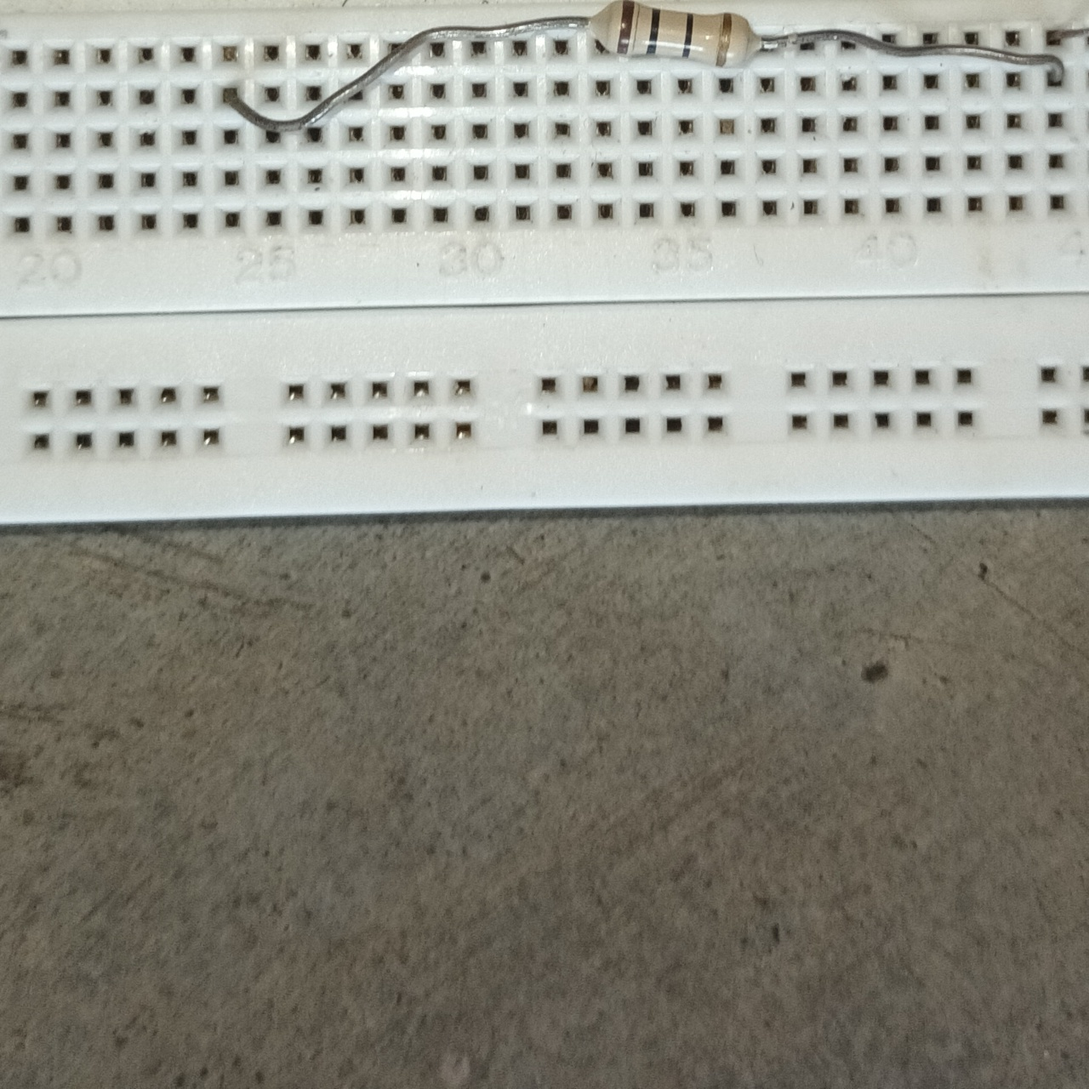resistor: (594, 0, 762, 76)
